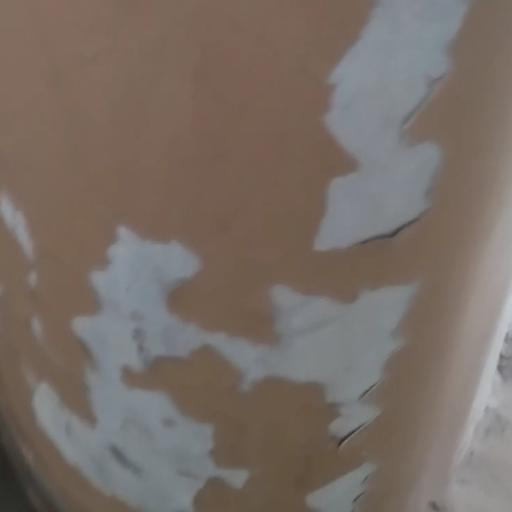peeling: (0, 193, 416, 512), (288, 0, 473, 266)
